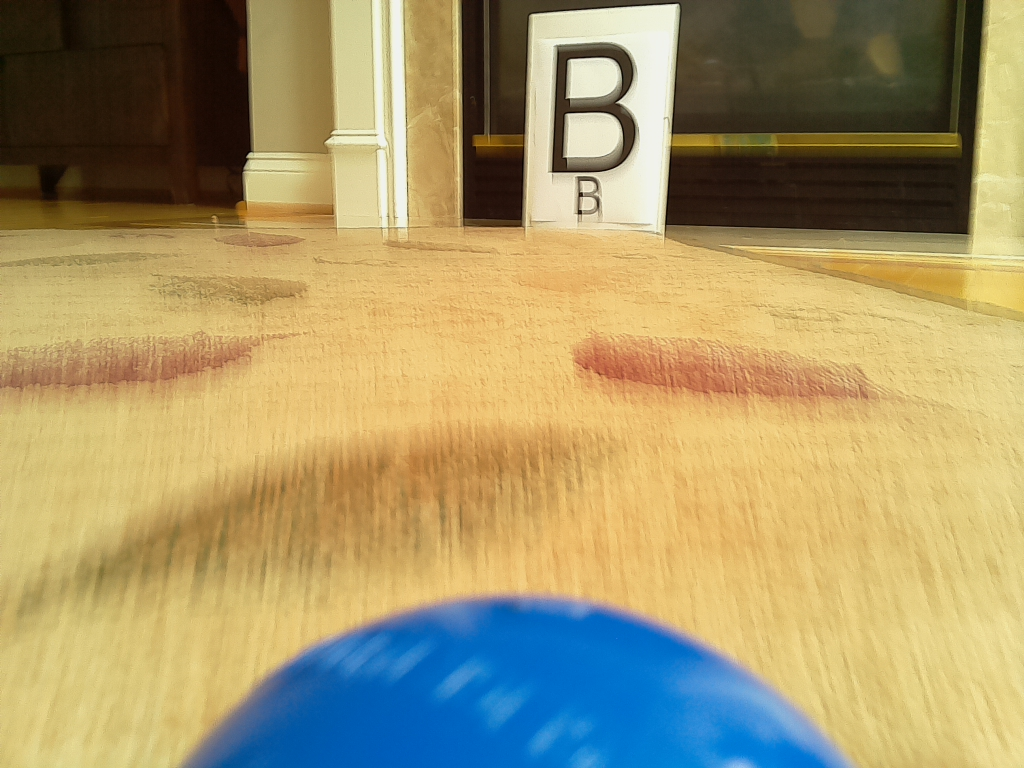letter: (550, 43, 637, 175)
